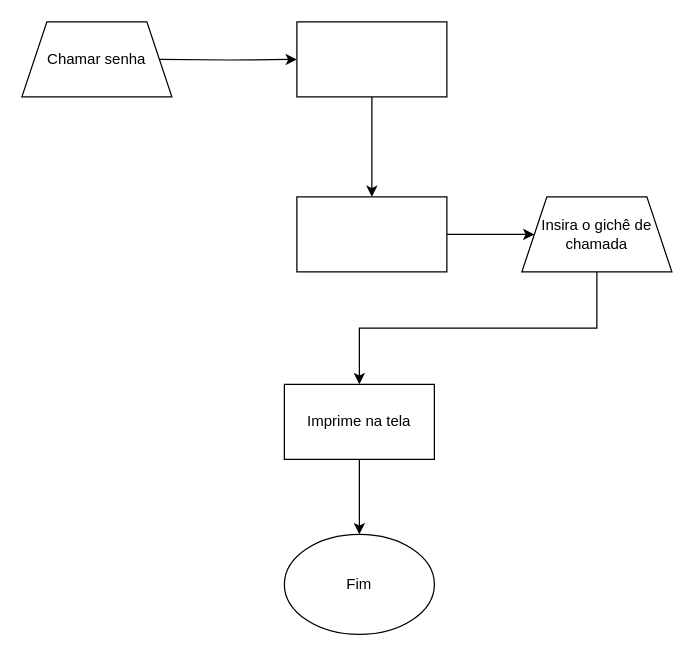
Some shapes in this 694 by 656 pixel diagram are drawn without their labels. Each missing label, with the centre of its shape:
Chamar o primeiro item da lista: pixel 371 59
Remover o item da lista: pixel 371 234
